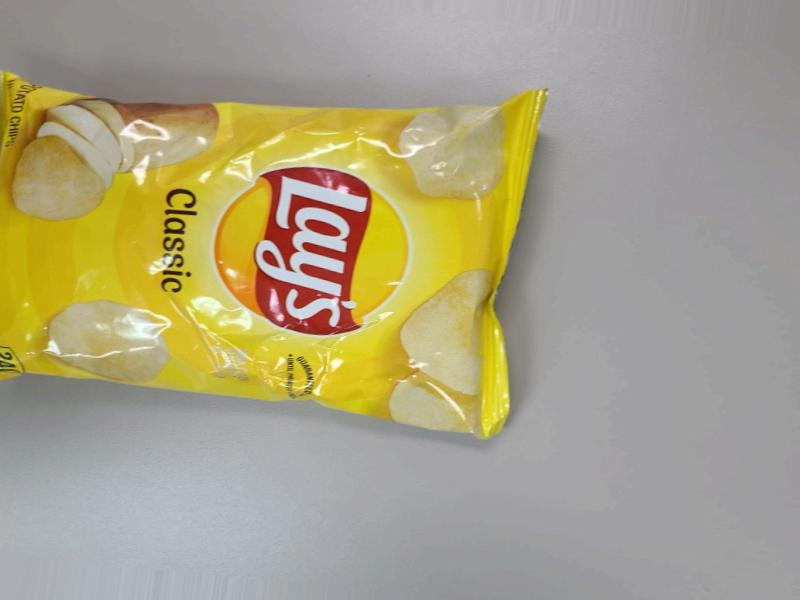lays: (77, 84, 519, 403)
